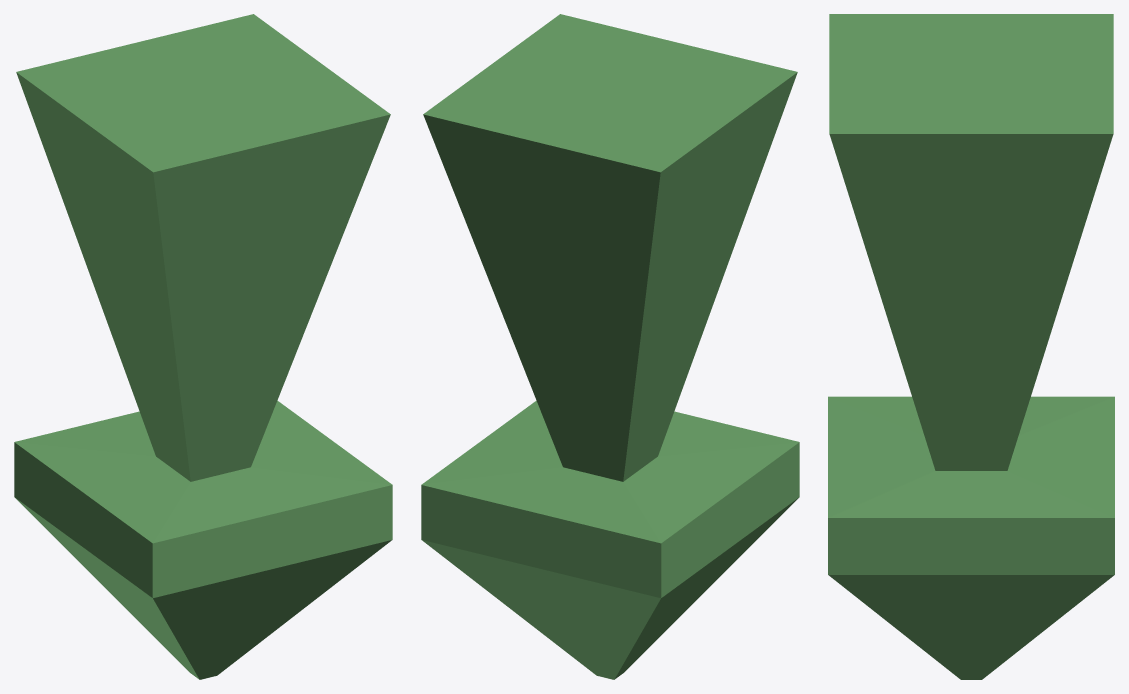
3 views of the same model, side by side, from view 1: azimuth 30°, elevation 25°; view 2: azimuth 150°, elevation 25°; view 3: azimuth 270°, elevation 25° (orthographic). The views are drawn at different scales.
Parts seen in each view (by area): view 1: cube; view 2: cube; view 3: cube.
Part boxes in pixels (box(x1,y1,x2,y2)): cube: box(14, 14, 392, 679); cube: box(421, 14, 799, 679); cube: box(828, 14, 1114, 679).
Bounding box in the file's own units: 2.59 × 2.59 × 6.
